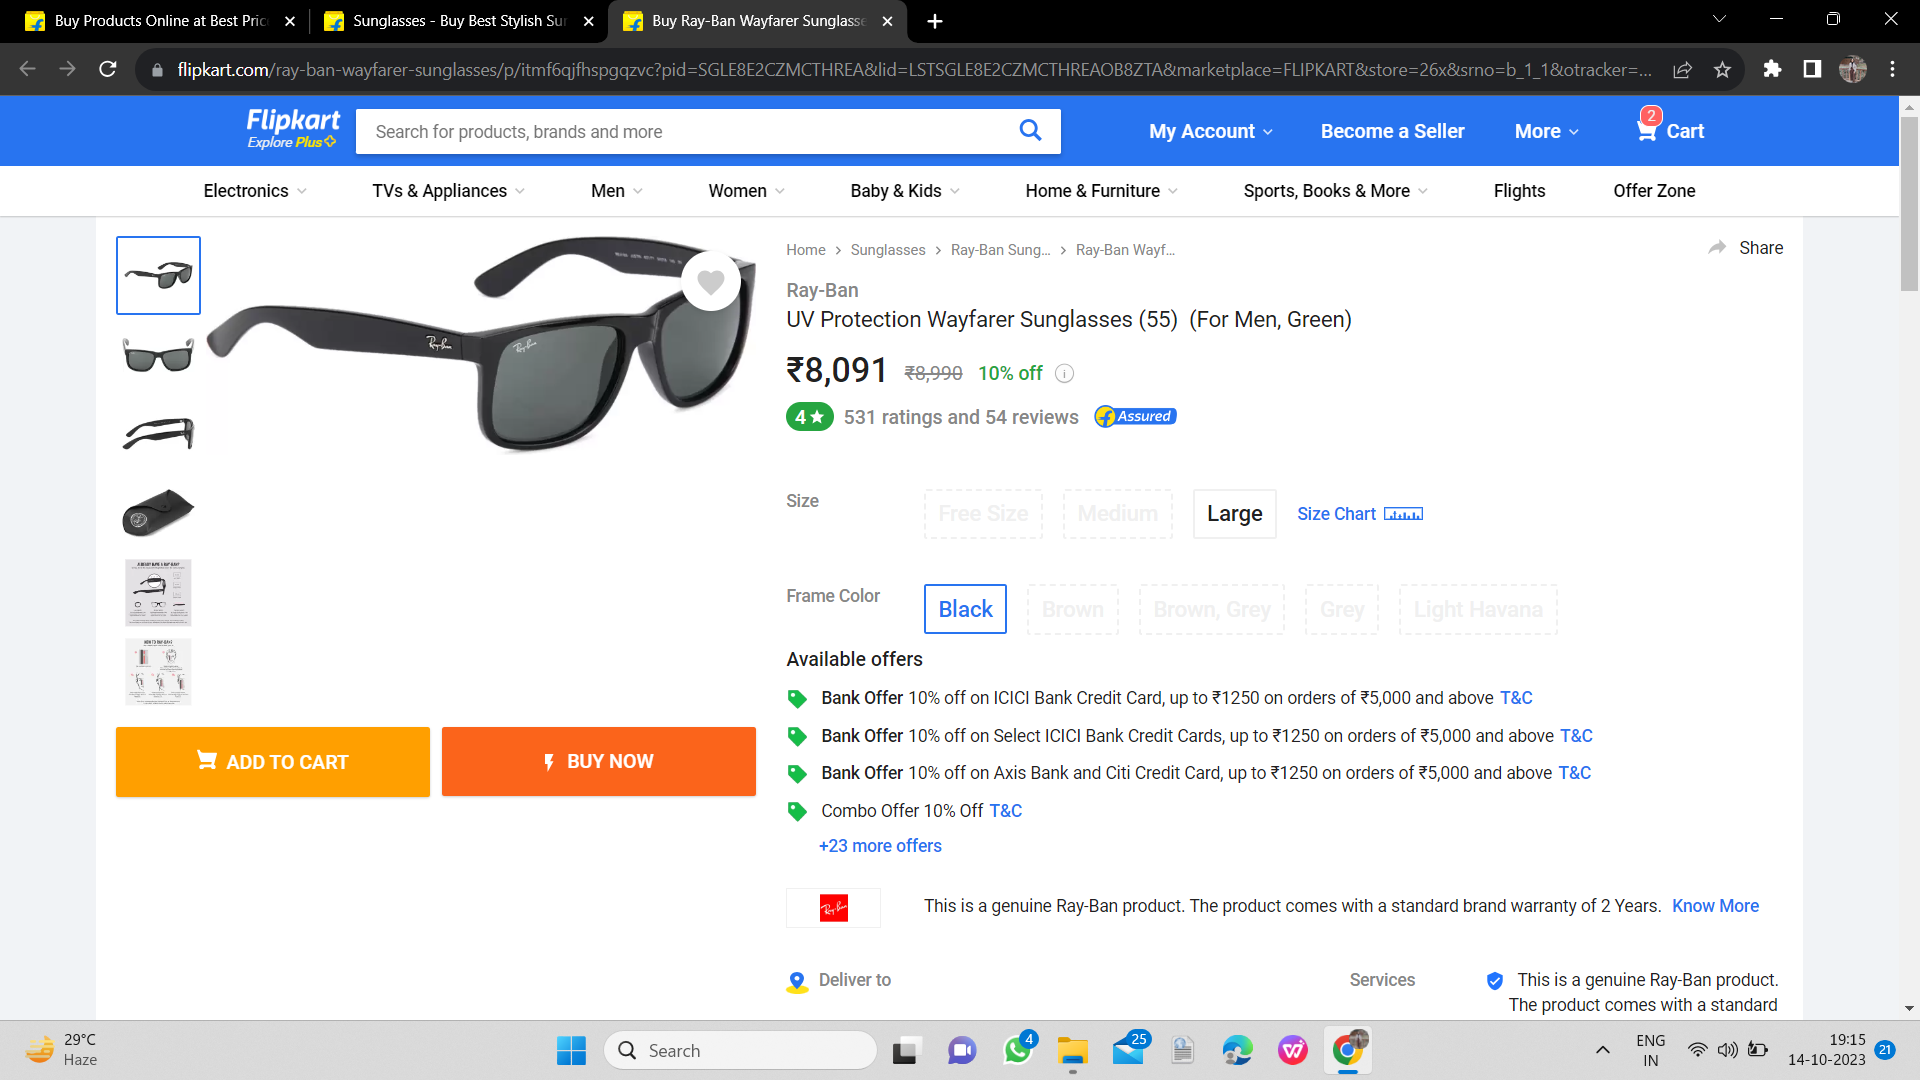Image: (210, 241, 764, 539)
Paragraph: (774, 684, 1609, 858), (105, 720, 764, 815), (790, 885, 1663, 936), (781, 272, 1354, 345), (1133, 115, 1724, 152), (779, 388, 1188, 435), (1191, 485, 1431, 553), (787, 345, 1052, 386), (1333, 967, 1784, 990), (913, 574, 1017, 634), (790, 572, 893, 617), (779, 644, 932, 671), (783, 479, 820, 516)
